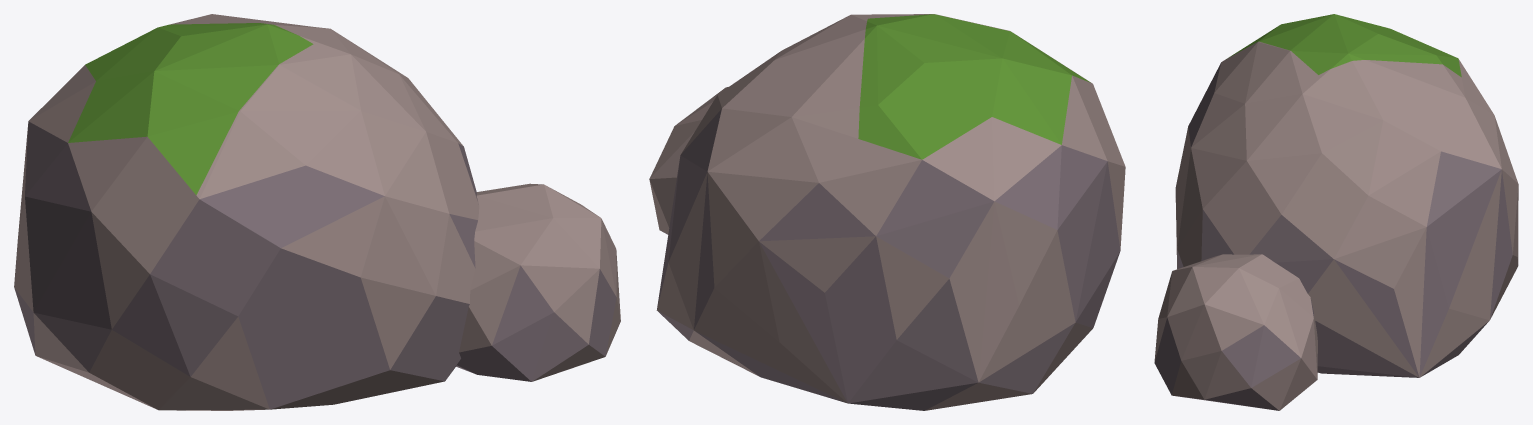
Rendered from rock_b.glb.
3 renders of one model, left to right at view 1: azimuth 30°, elevation 25°; view 2: azimuth 150°, elevation 25°; view 3: azimuth 270°, elevation 25°, orthographic. The views are drawn at different scales.
Visible parts, largest first — view 1: Body; view 2: Body; view 3: Body.
Boxes of the visible parts, x1,y1,x2,y2 form: Body: [14, 14, 620, 410]; Body: [649, 14, 1125, 410]; Body: [1154, 14, 1518, 410].
Size of the model in its own units: 1.8 by 1.05 by 1.38.
